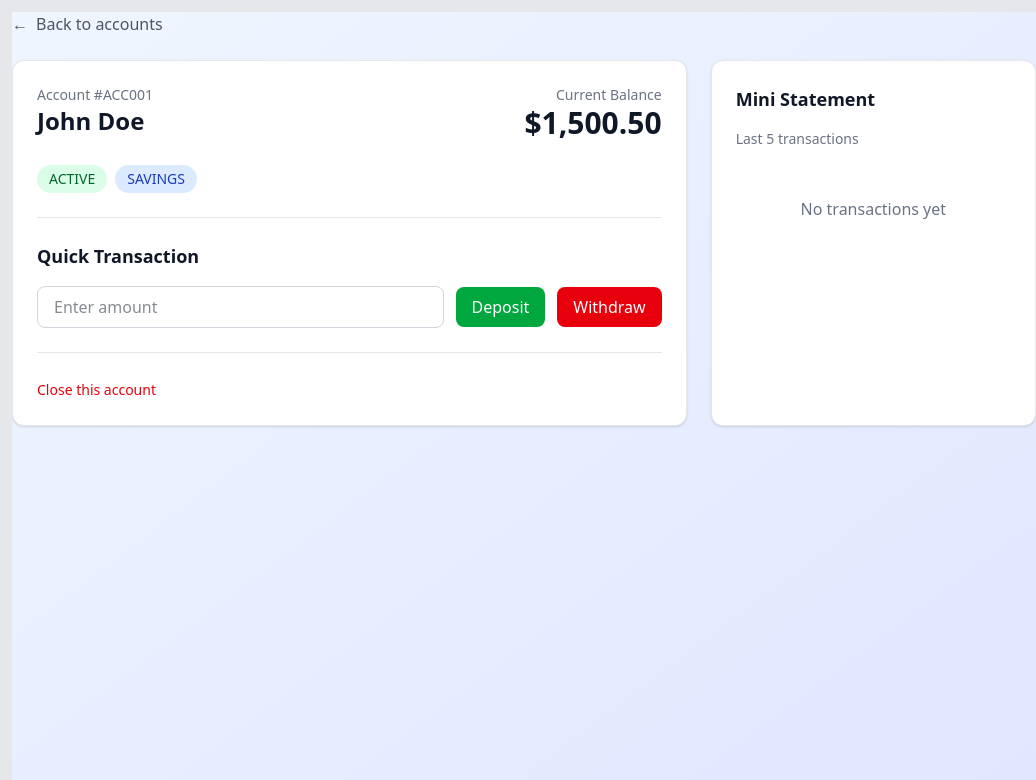
Test case: AccountDetail › displays deposit error on API failure
Type "500" into the number field with placeholder "Enter amount" at (240, 307), box [37, 286, 444, 328]
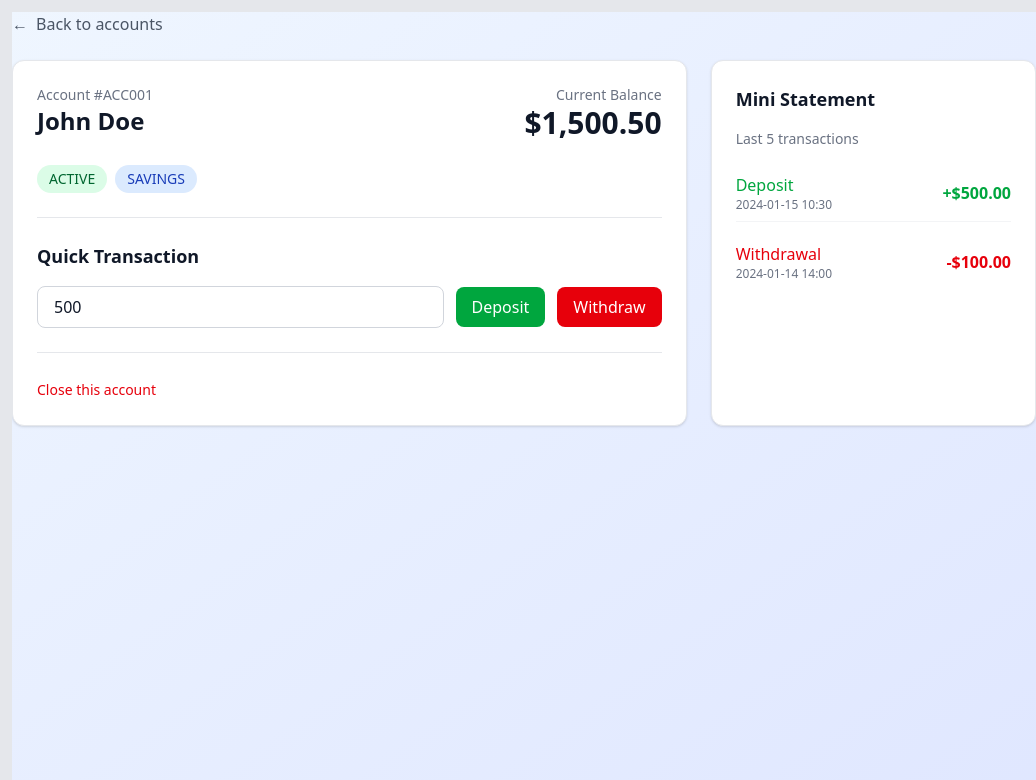
Click the button "Deposit" at (500, 307), box [456, 287, 545, 327]
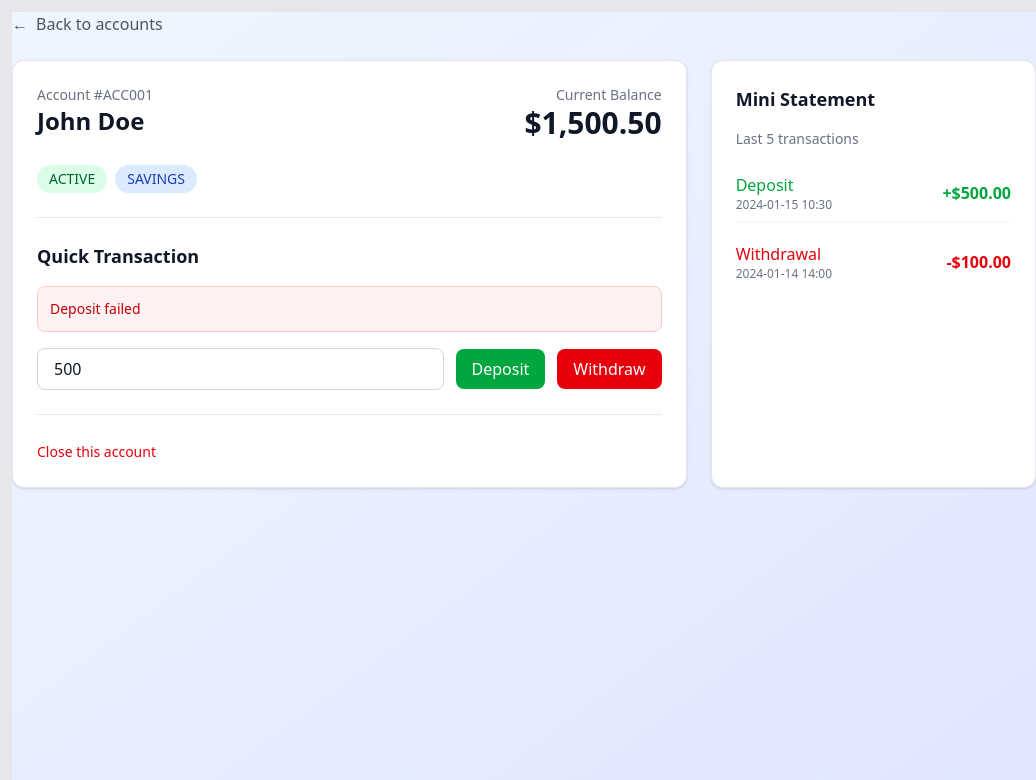
expect the text "Deposit failed" is shown: met, box [37, 286, 662, 332]
